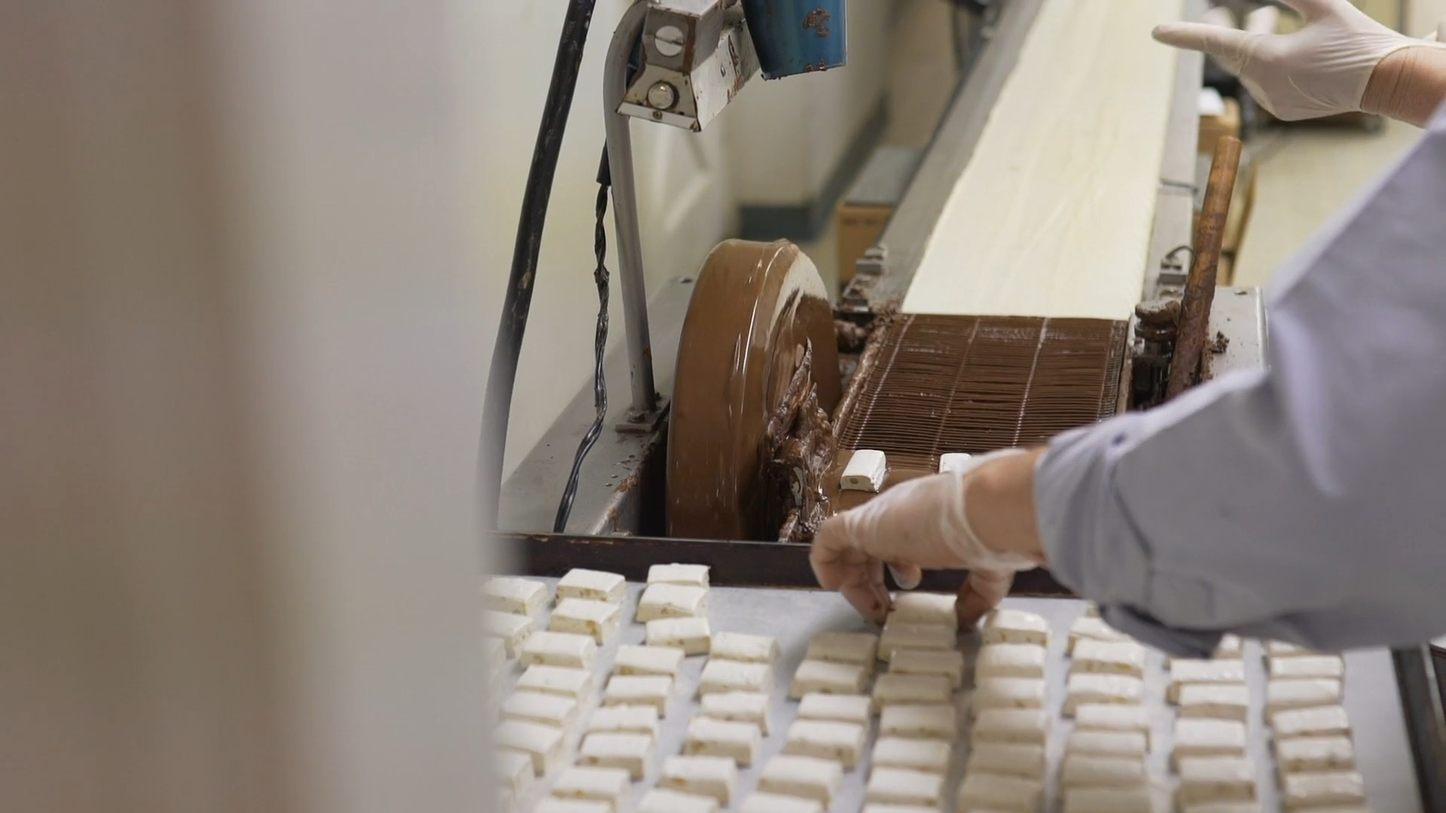gloves: (798, 431, 1055, 640)
